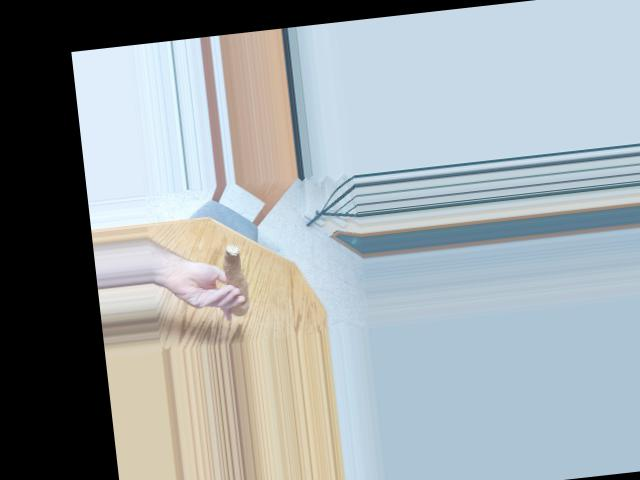sweet_potato: (223, 250, 257, 311)
